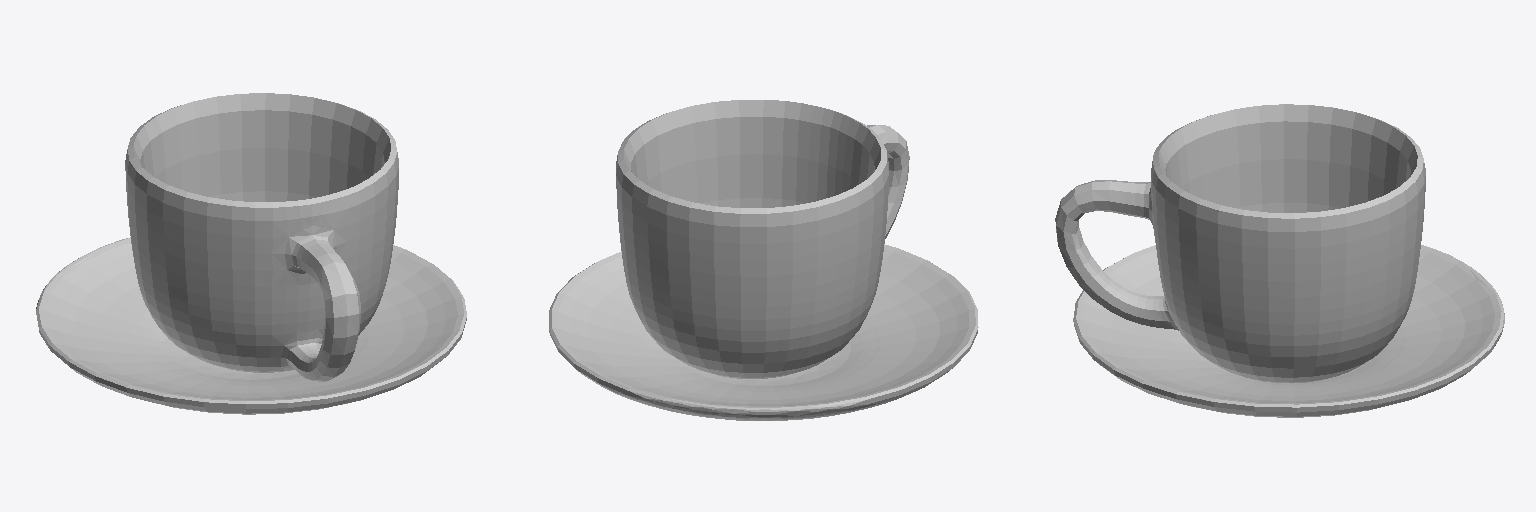
Rendered from coffee_cup.obj.
3 renders of one model, left to right at view 1: azimuth 30°, elevation 25°; view 2: azimuth 150°, elevation 25°; view 3: azimuth 270°, elevation 25°, orthographic.
Parts seen in each view (by area): view 1: Cup2_Cylinder.004, Cup1_Circle.002; view 2: Cup2_Cylinder.004, Cup1_Circle.002; view 3: Cup2_Cylinder.004, Cup1_Circle.002.
Part boxes in pixels (left/top/right/bottom): Cup2_Cylinder.004: left=125, top=93, right=398, bottom=381; Cup1_Circle.002: left=36, top=237, right=466, bottom=414; Cup2_Cylinder.004: left=616, top=100, right=909, bottom=378; Cup1_Circle.002: left=549, top=244, right=978, bottom=420; Cup2_Cylinder.004: left=1055, top=104, right=1425, bottom=382; Cup1_Circle.002: left=1073, top=245, right=1504, bottom=417.
Size of the model in its own units: 1.23 by 0.6473 by 1.29.